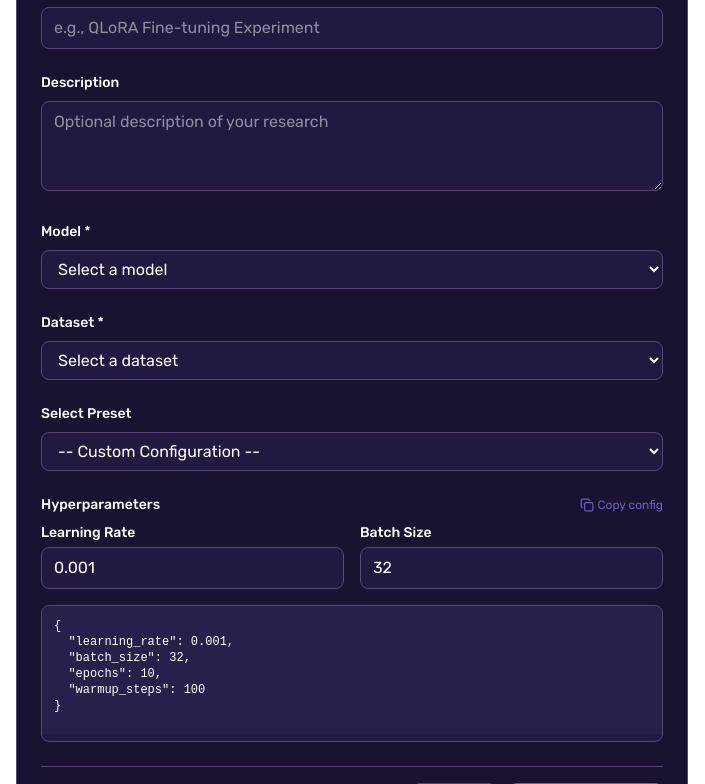
Test: ResearchProgramEditor › Form Validation › should validate learning rate is positive
Step 1. Replace the text in the number field labelled "Learning Rate" with "0" → (192, 568), box [41,547,344,589]
(page scrolled)
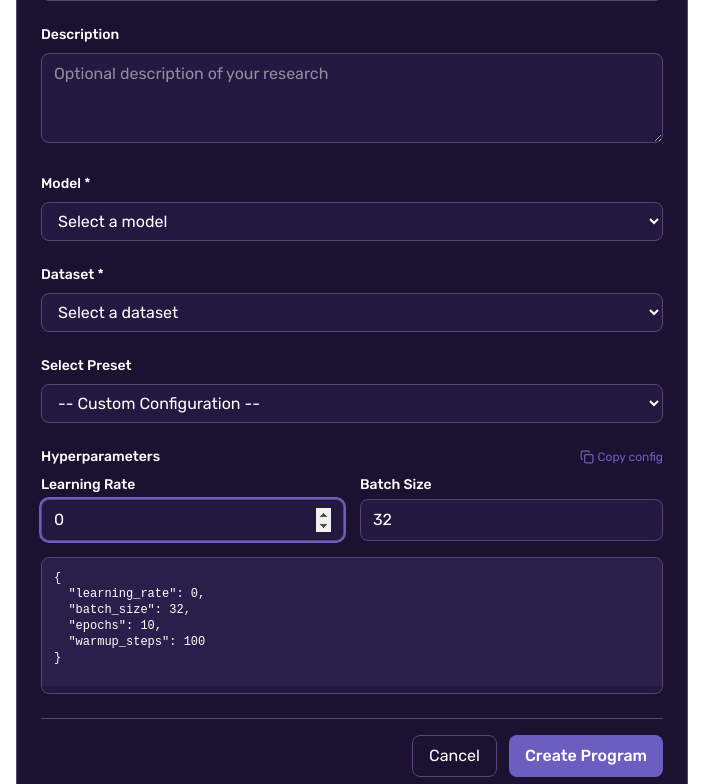
Step 2. Click the button "Create Program" → (586, 756), box [509,735,663,777]
(page scrolled)
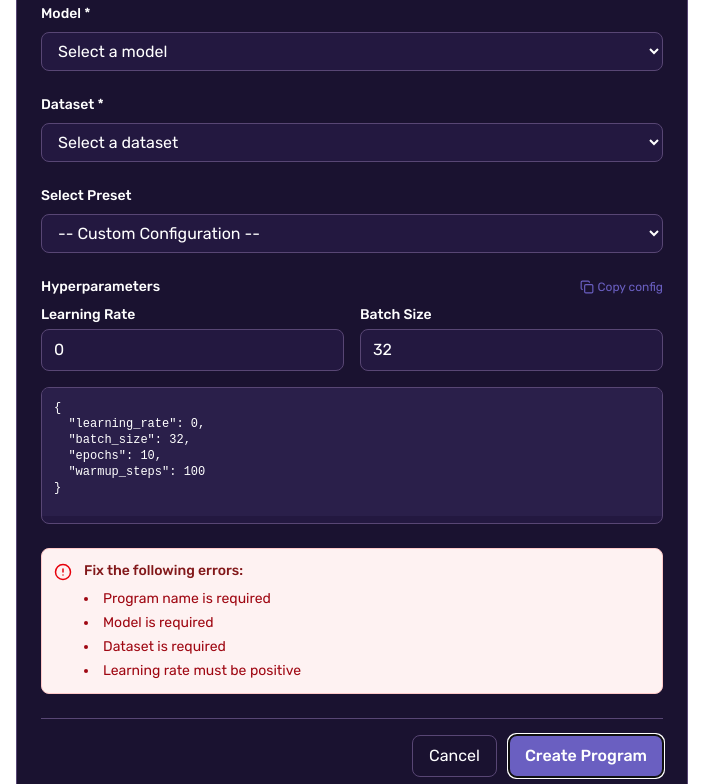
Check: the list item "Learning rate must be positive" is shown, box [84,661,301,681]
